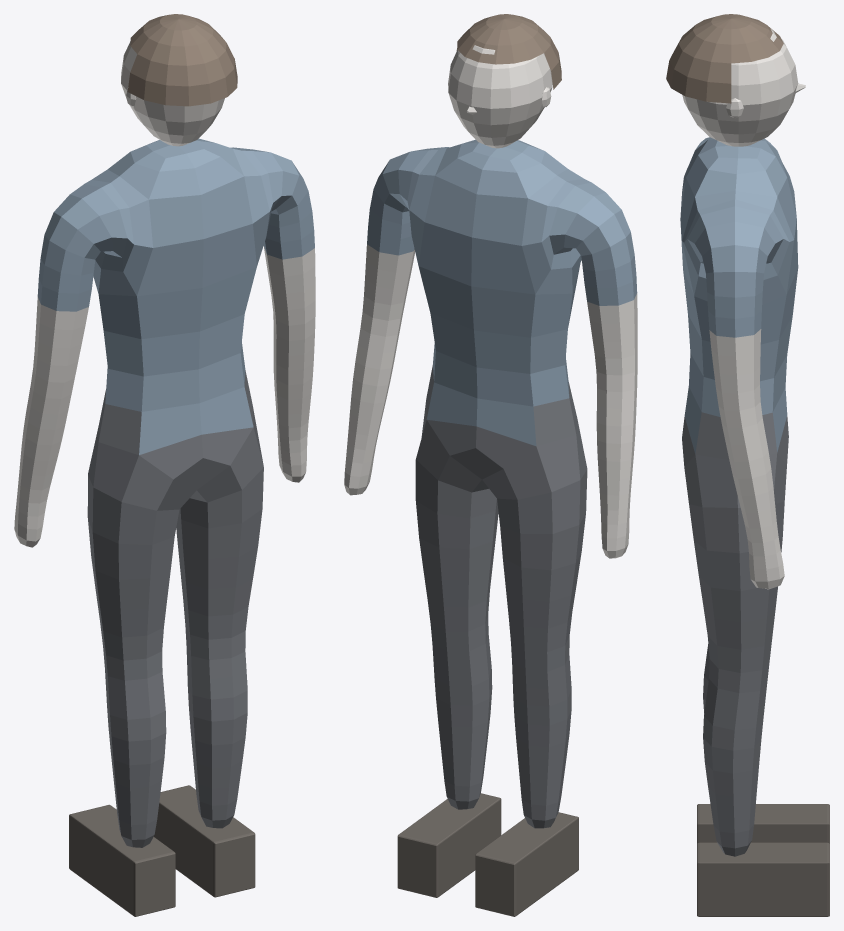
Rendered from man.glb.
The picture shows the model from 3 angles, left to right: view 1: azimuth 30°, elevation 25°; view 2: azimuth 150°, elevation 25°; view 3: azimuth 270°, elevation 25°; orthographic projection. The views are drawn at different scales.
Parts seen in each view (by area): view 1: man; view 2: man; view 3: man.
Part boxes in pixels (box(x1,y1,x2,y2)): man: box(14, 14, 315, 916); man: box(344, 14, 637, 916); man: box(666, 14, 829, 916).
Bounding box in the file's own units: 0.6175 × 1.8 × 0.3071.
